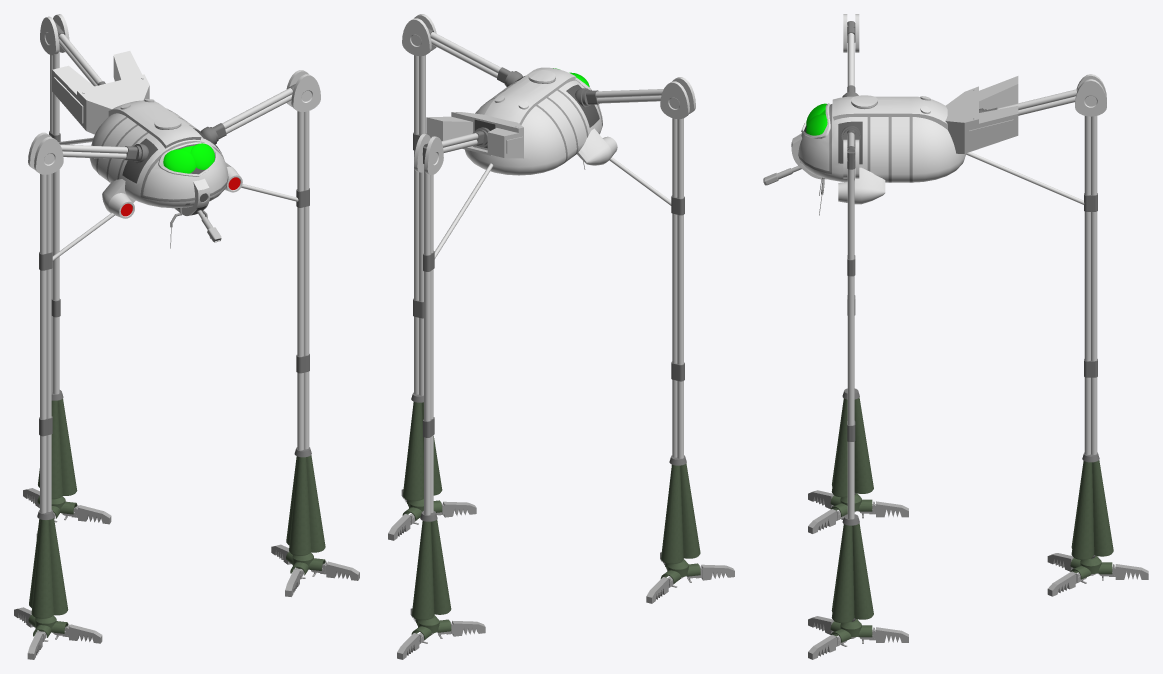
File: tripod_jeff_wayne_war_of_the_worlds.glb
3 renders of one model, left to right at view 1: azimuth 30°, elevation 25°; view 2: azimuth 150°, elevation 25°; view 3: azimuth 270°, elevation 25°, orthographic.
Visible parts, largest first — view 1: Material2.003, Material2.010, Material2.011, Material2.009, Material2.002, Material2.005, Material2.006; view 2: Material2.003, Material2.010, Material2.011, Material2.009, Material2.006, Material2.005; view 3: Material2.003, Material2.010, Material2.011, Material2.009, Material2.005.
Part boxes in pixels (<box>): Material2.003: <box>28,14,320,513</box>; Material2.010: <box>28,399,325,637</box>; Material2.011: <box>14,488,359,659</box>; Material2.009: <box>37,22,311,519</box>; Material2.002: <box>163,143,214,173</box>; Material2.005: <box>96,110,228,227</box>; Material2.006: <box>122,128,222,240</box>; Material2.003: <box>402,14,695,515</box>; Material2.010: <box>402,402,700,639</box>; Material2.011: <box>388,489,734,659</box>; Material2.009: <box>411,28,686,521</box>; Material2.006: <box>474,76,599,148</box>; Material2.005: <box>486,80,602,163</box>; Material2.003: <box>791,14,1106,519</box>; Material2.010: <box>830,397,1113,642</box>; Material2.011: <box>808,490,1148,659</box>; Material2.009: <box>841,21,1099,621</box>; Material2.005: <box>798,104,912,194</box>.
Bounding box in the file's own units: 91.44 × 132 × 91.79.
26 materials, 1 textured.
